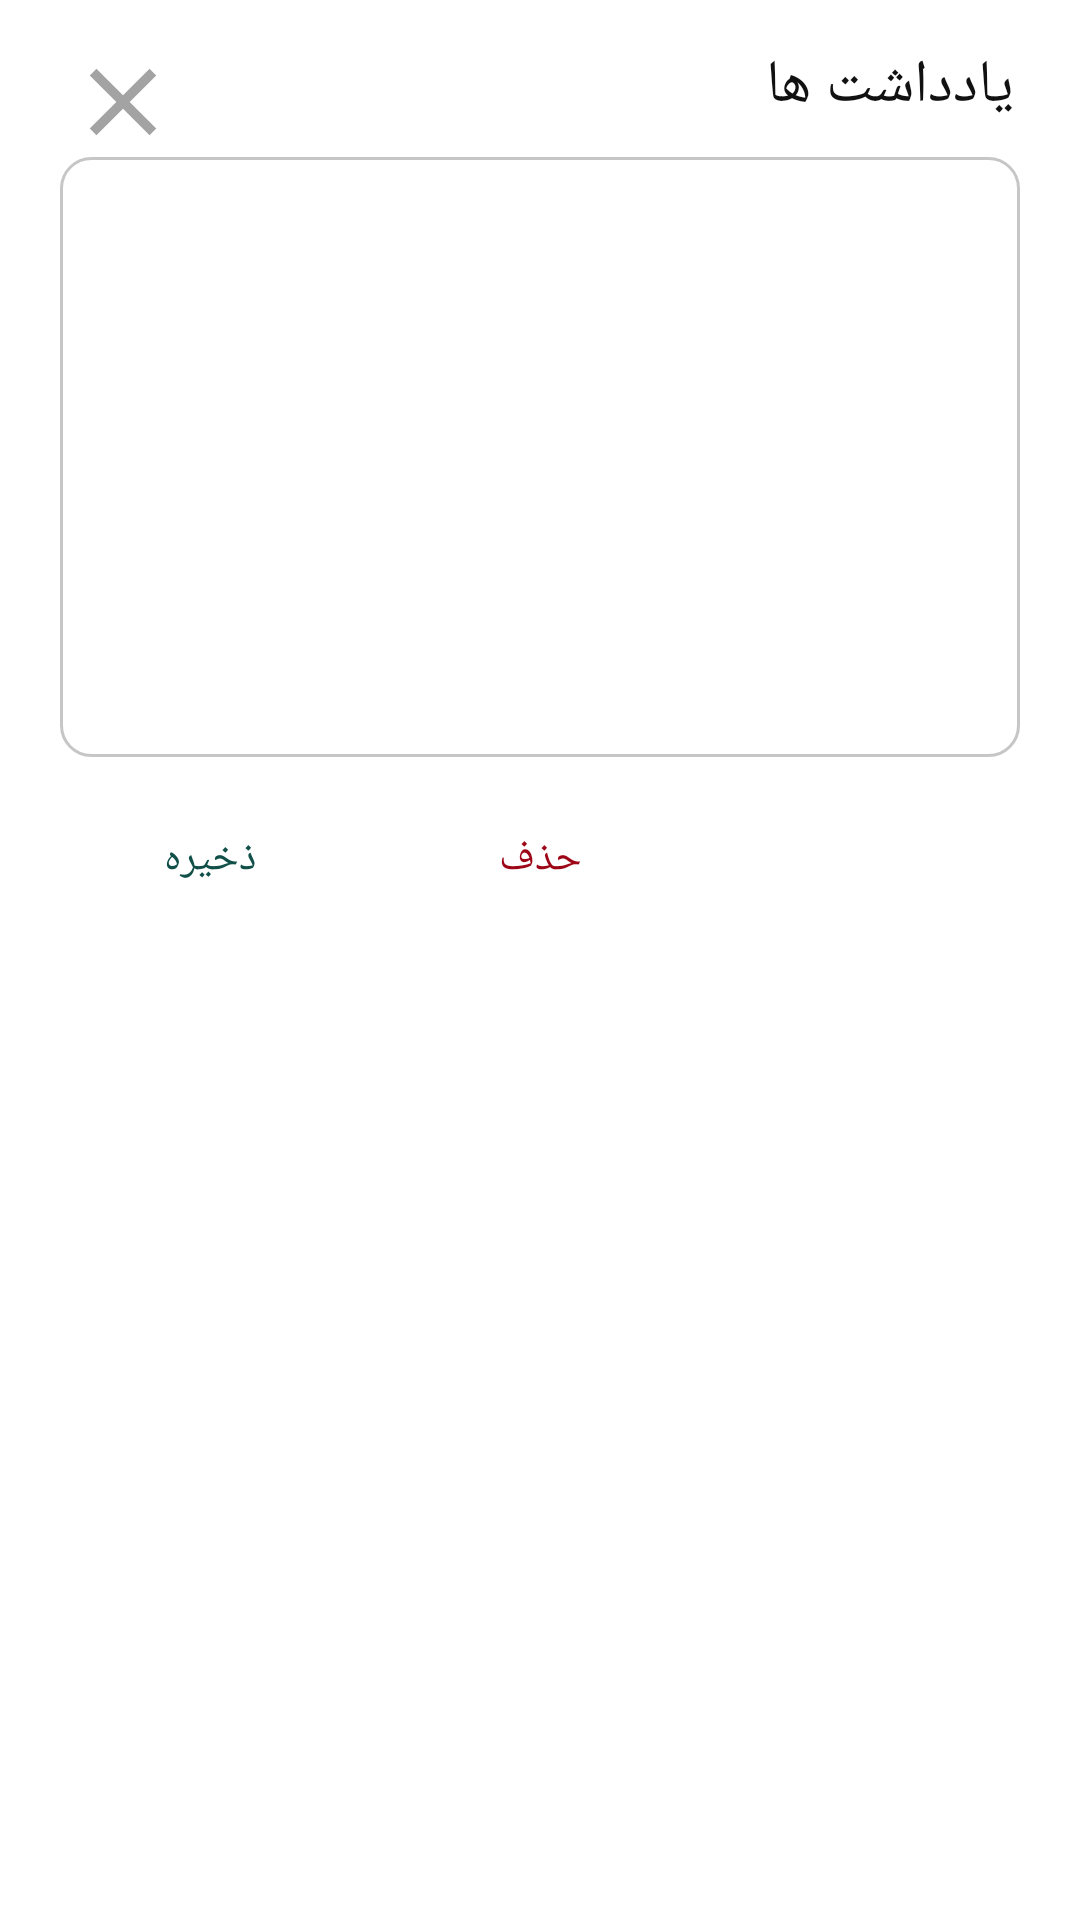

Where icons sit on this 1080px x 1920px app screen, as (x1, y1, x2, y2):
close style: (90, 69, 156, 135)
